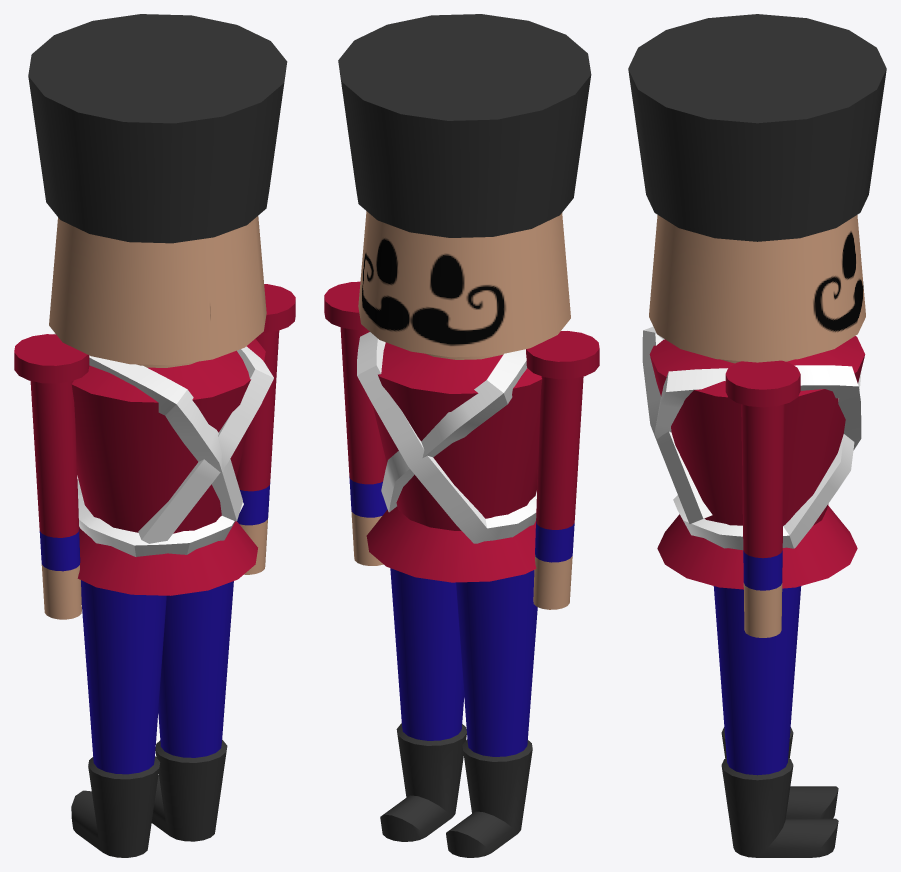
File: nutcracker.fbx
The picture shows the model from 3 angles, left to right: view 1: azimuth 30°, elevation 25°; view 2: azimuth 150°, elevation 25°; view 3: azimuth 270°, elevation 25°; orthographic projection. The views are drawn at different scales.
Visible parts, largest first — view 1: Cylinder.007; view 2: Cylinder.007; view 3: Cylinder.007.
Boxes of the visible parts, box(x1,y1,x2,y2) form: Cylinder.007: box(14, 14, 295, 857); Cylinder.007: box(324, 14, 599, 857); Cylinder.007: box(628, 14, 886, 857).
Bounding box in the file's own units: 20.98 × 56.8 × 17.45.
Materials: 1 (1 with a texture image).
